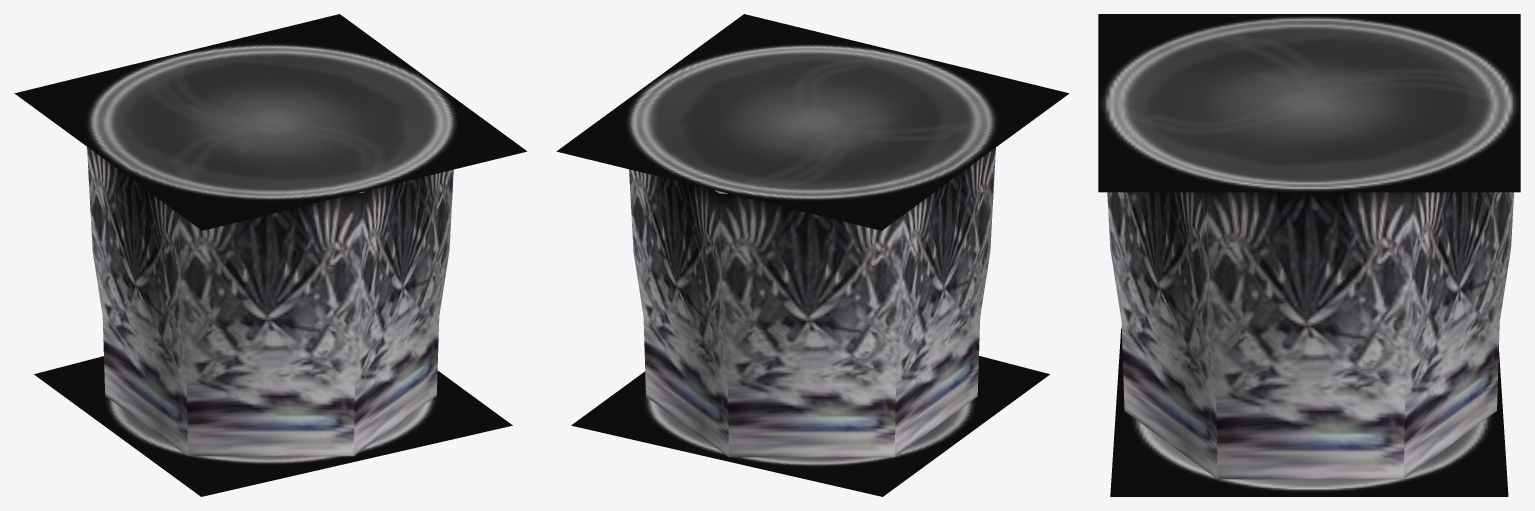
Rendered from Glass_Rocks.fbx.
3 renders of one model, left to right at view 1: azimuth 30°, elevation 25°; view 2: azimuth 150°, elevation 25°; view 3: azimuth 270°, elevation 25°, orthographic. The views are drawn at different scales.
Visible parts, largest first — view 1: Glass_rocks_LOD0; view 2: Glass_rocks_LOD0; view 3: Glass_rocks_LOD0.
Part boxes in pixels (left/top/right/bottom): Glass_rocks_LOD0: left=14, top=14, right=527, bottom=496; Glass_rocks_LOD0: left=556, top=14, right=1069, bottom=496; Glass_rocks_LOD0: left=1098, top=14, right=1520, bottom=496.
Size of what is drawn, in the model's own units: 29.34 by 23.74 by 29.34.
